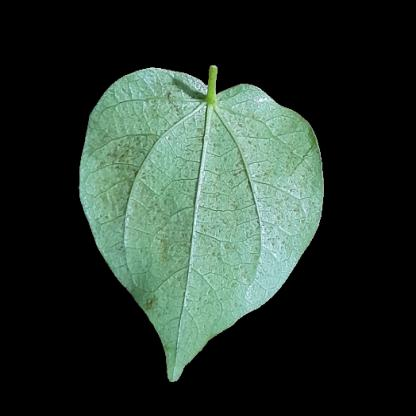healthy: (119, 109, 281, 281), (81, 133, 153, 228), (155, 285, 226, 327), (286, 133, 317, 229)
